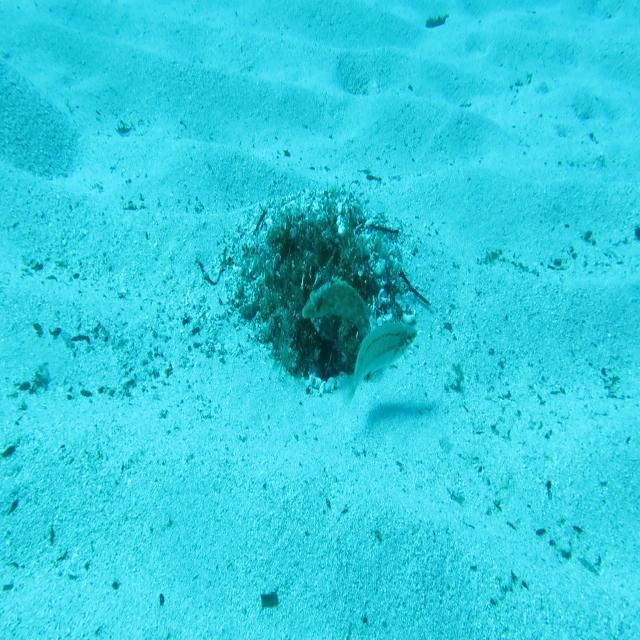BK_SW: (302, 273, 372, 344)
core_nest: (291, 232, 337, 262)
female: (338, 318, 418, 410)
nest: (222, 180, 420, 410)
vegetation: (424, 9, 450, 33)
